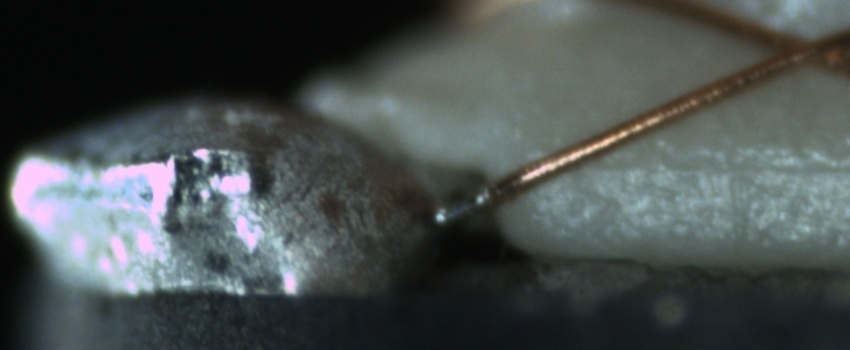CL: (754, 19, 837, 77)
DL: (579, 131, 842, 200)
TS: (430, 183, 494, 231)
TTCW: (430, 173, 507, 227)
